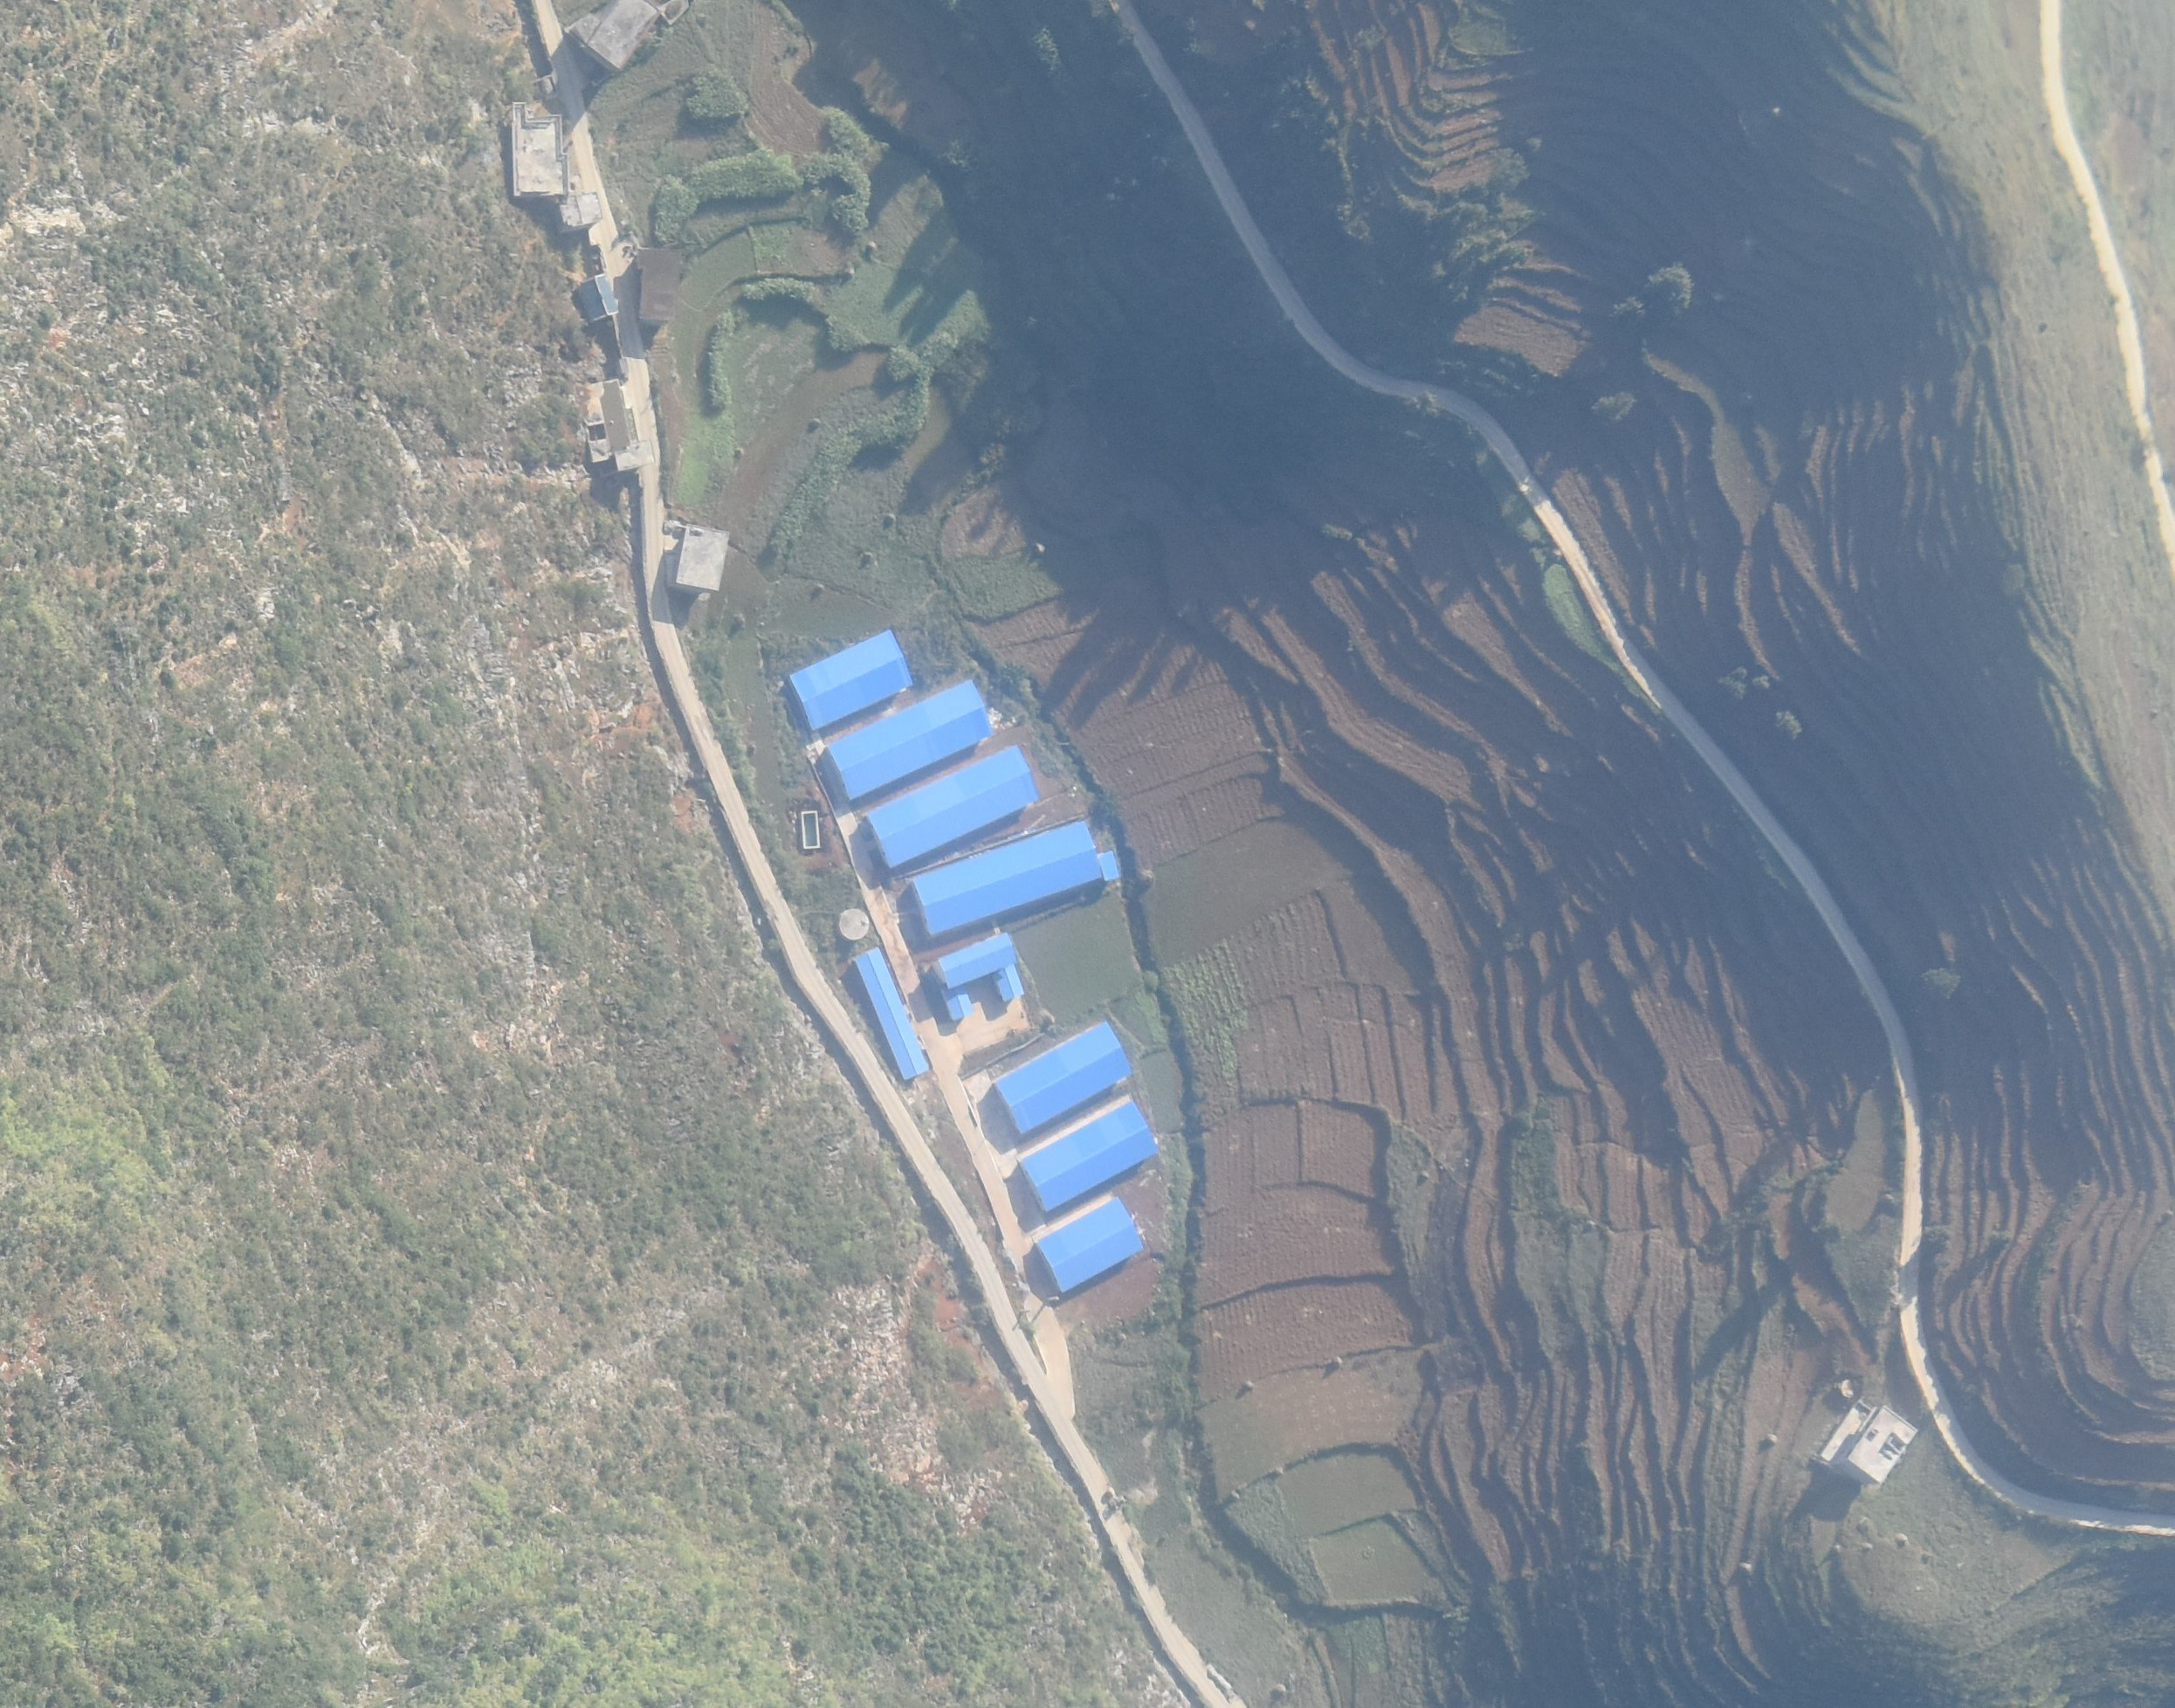building: (1820, 1399, 1918, 1482), (582, 375, 651, 472), (573, 1, 657, 67), (513, 101, 568, 196), (674, 520, 731, 591), (633, 247, 678, 320), (578, 275, 618, 323), (561, 191, 605, 226)
prefabricated-house: (913, 821, 1103, 936), (865, 746, 1041, 869), (825, 679, 994, 795), (992, 1017, 1135, 1133), (1023, 1101, 1160, 1214), (788, 629, 915, 731), (1035, 1195, 1143, 1291), (851, 948, 929, 1079), (940, 929, 1022, 988), (940, 979, 974, 1023), (994, 958, 1022, 1003), (1097, 851, 1119, 882)
well: (837, 909, 871, 940), (1840, 1380, 1862, 1398)
